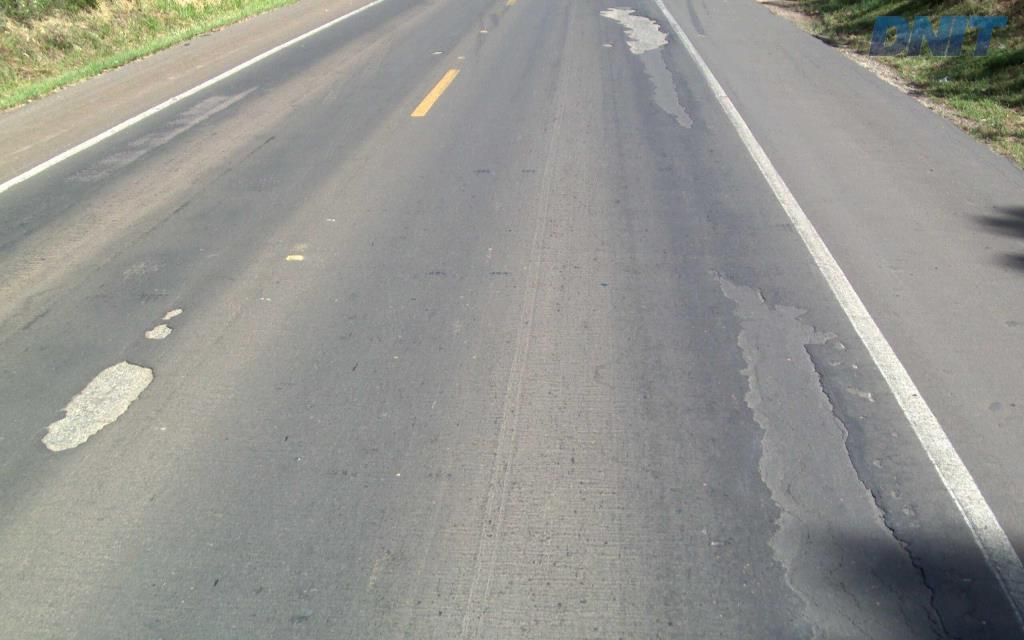pothole: (711, 269, 973, 638), (592, 0, 693, 133), (599, 39, 617, 52)
